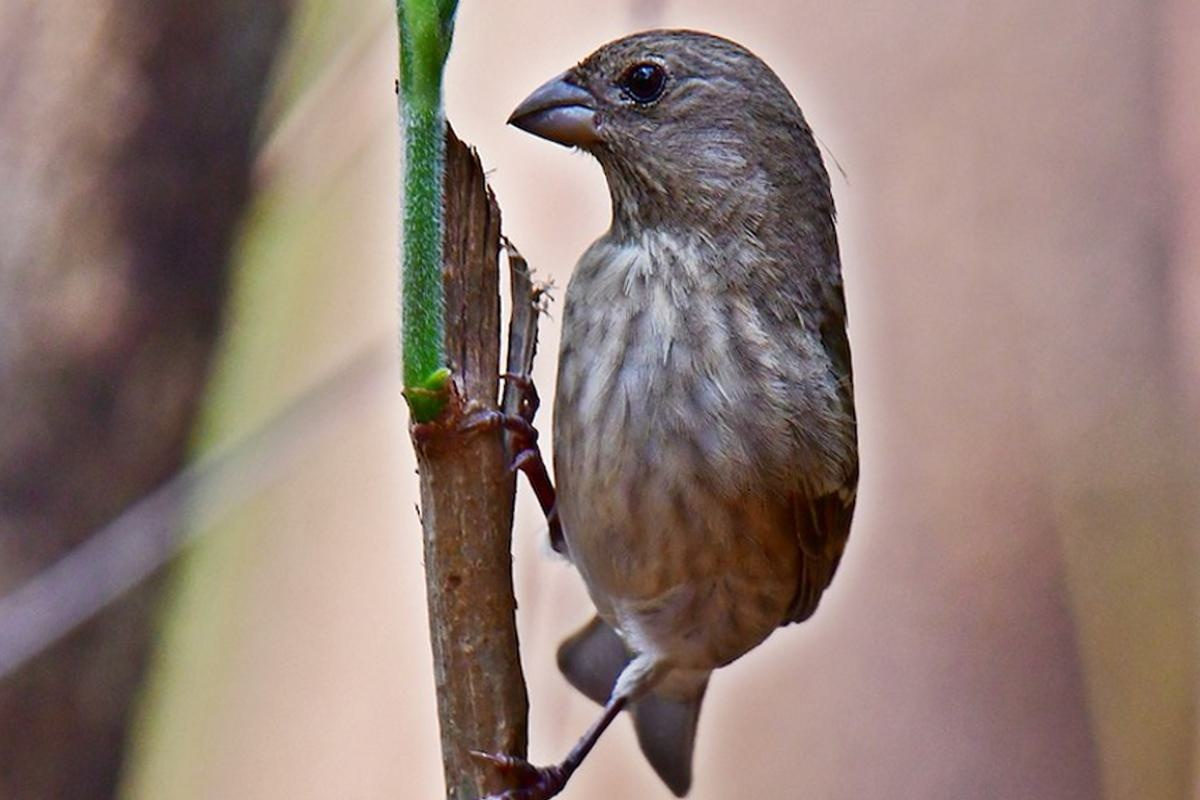rosefinch: (466, 33, 879, 751)
